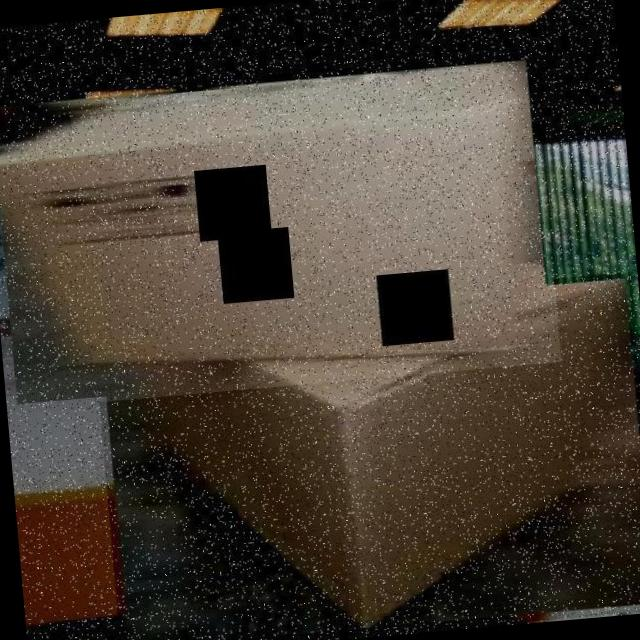box: (91, 271, 640, 640), (0, 55, 561, 410)
